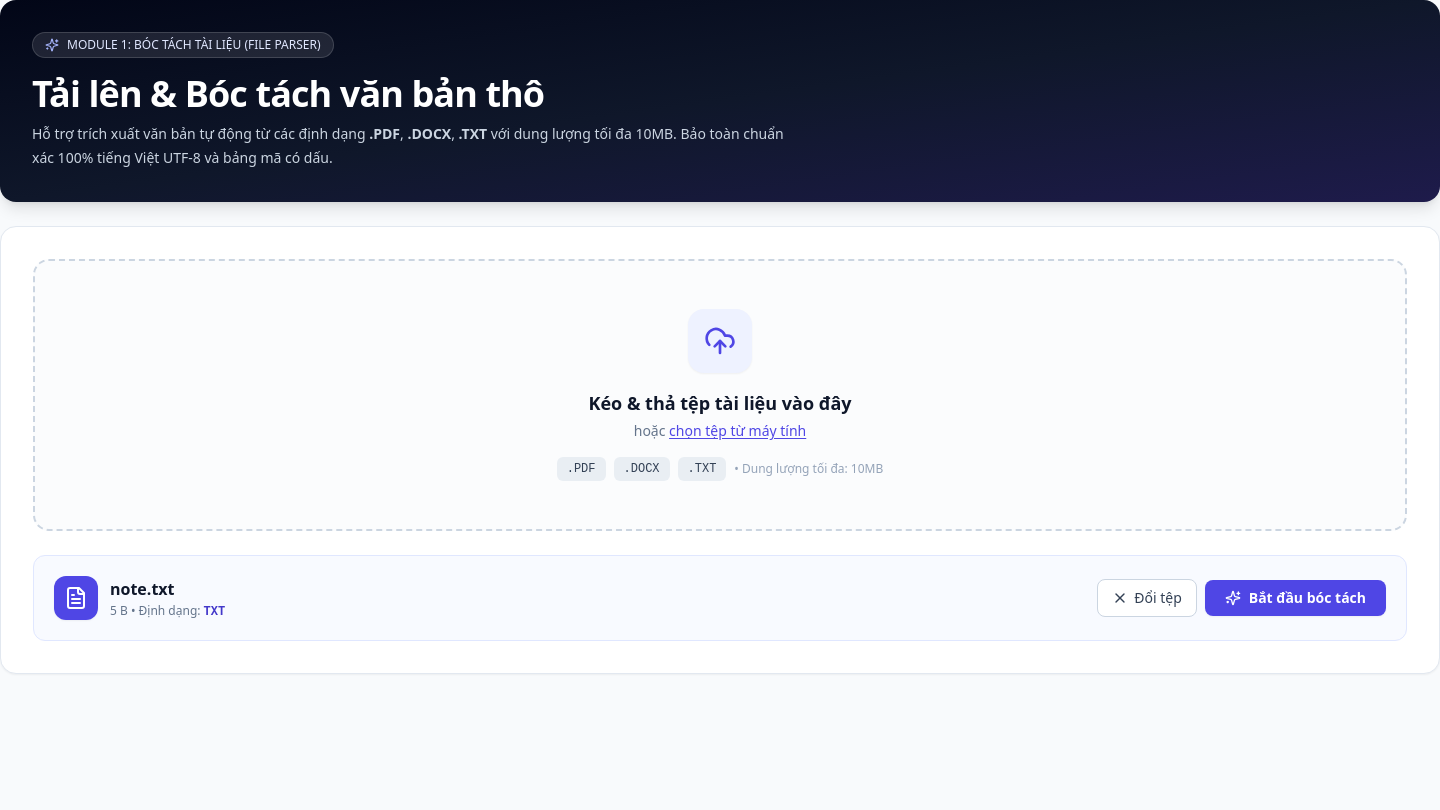
DocumentParserTab & parserApi › shows server error details when upload fails with 400 or 403
Earlier steps of the test are not shown.
What coordinates should you click on to do the following:
click the button "Bắt đầu bóc tách"
I would click on:
 (1295, 598)
Its box is [1205, 580, 1386, 616].
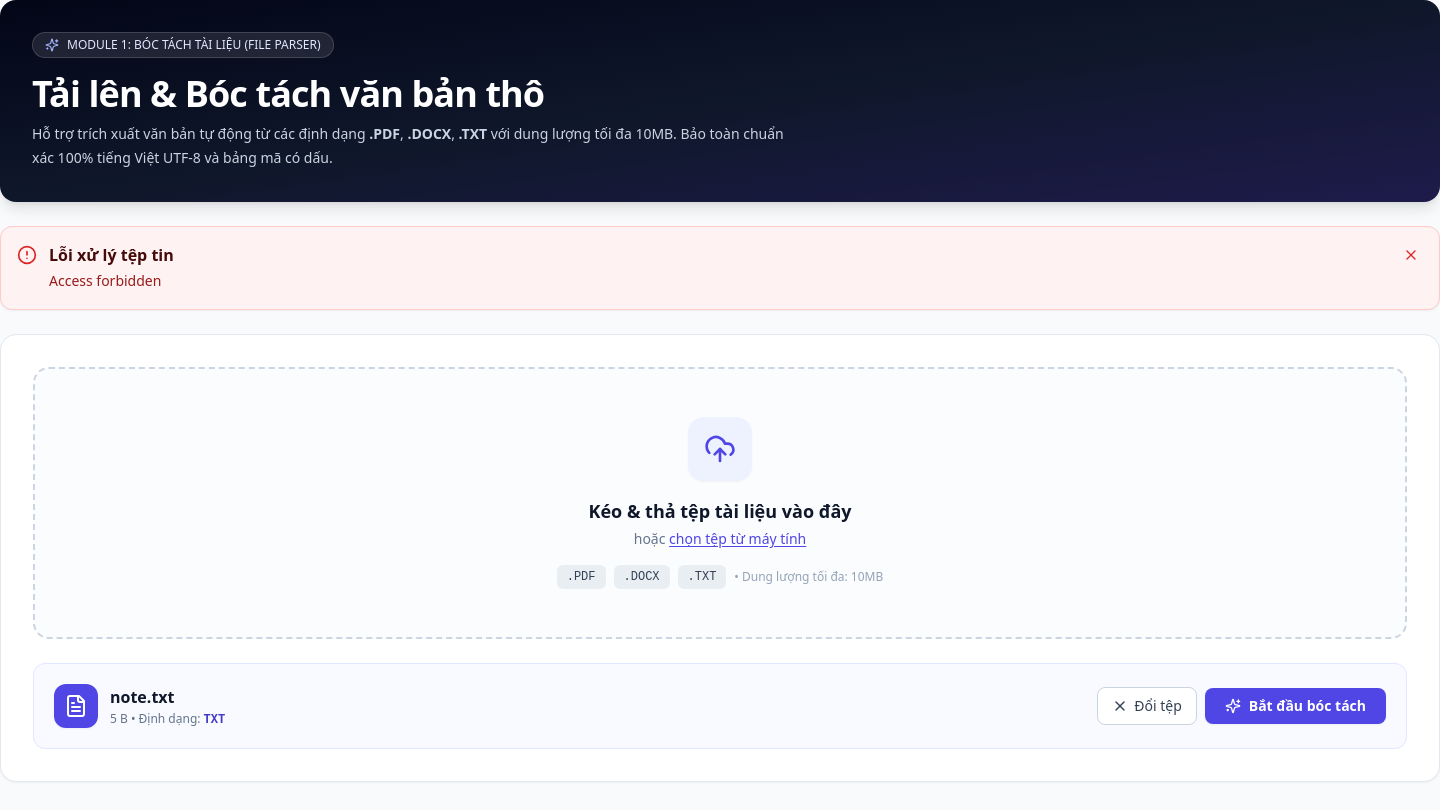
expect the message shows "Access forbidden": met, box [49, 271, 161, 290]
